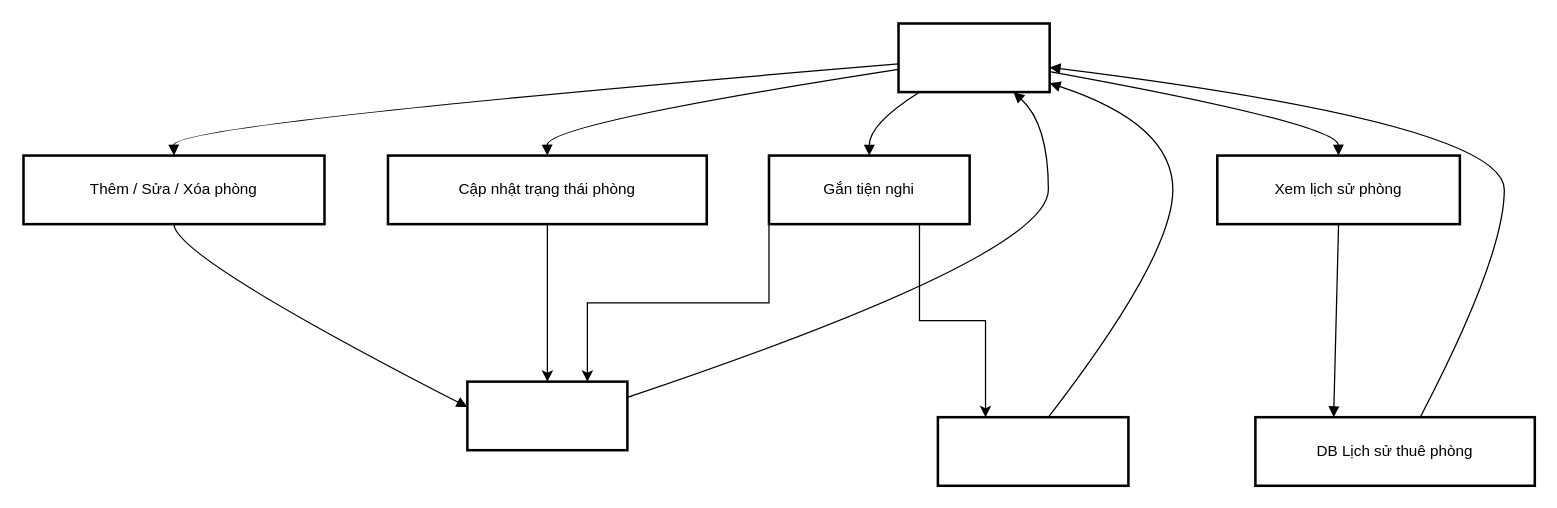
The diagram is 1557 pixels wide and 508 high, and some of its shapes have lost their labels. Each missing label, with the centre of its shape:
Chủ nhà: pixel 973 57
DB Phòng: pixel 546 415
DB Tiện nghi: pixel 1032 450
